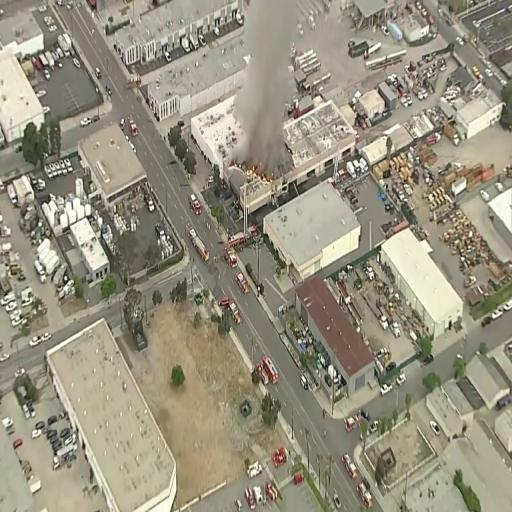smoke: (252, 16, 287, 156)
